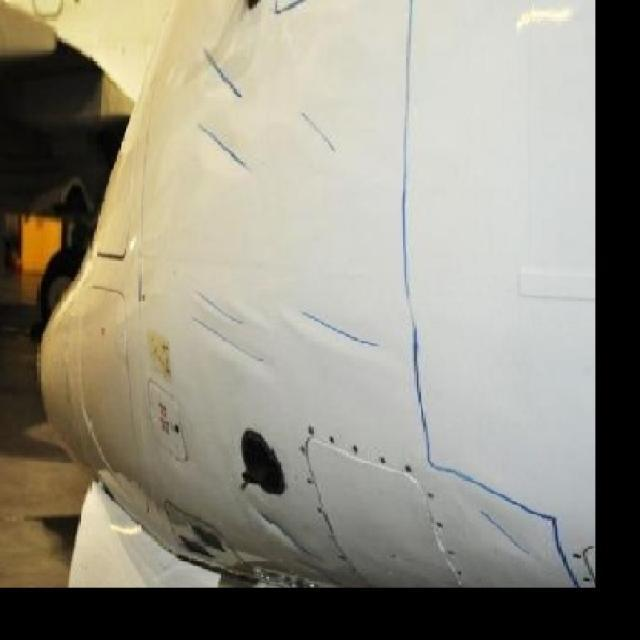dent: (480, 503, 540, 565), (193, 320, 262, 365), (305, 312, 383, 343), (265, 508, 313, 557), (199, 123, 242, 163), (203, 51, 243, 94), (200, 288, 243, 327), (308, 111, 337, 154)
